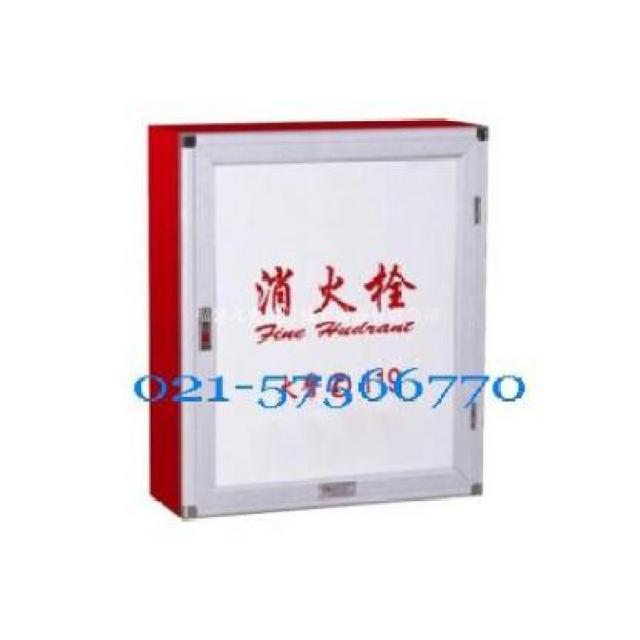firehydrant: (140, 112, 491, 527)
